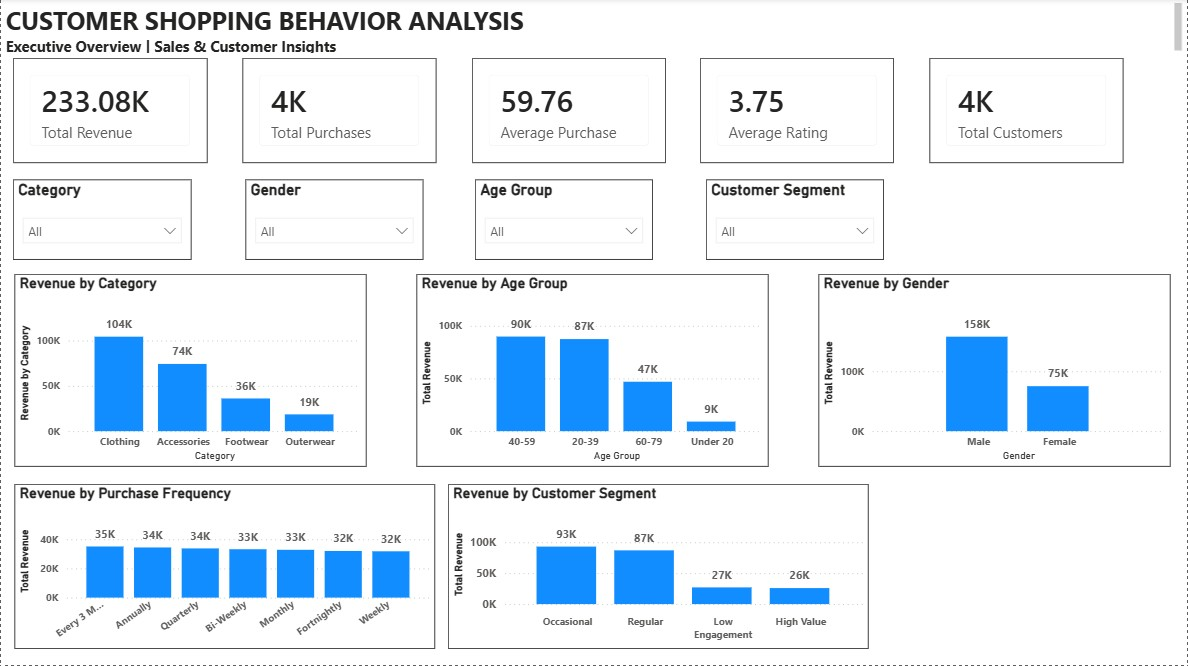

What the dashboard file says about the page in this screenshot:
{"tool":"powerbi","page":{"name":"Executive Overview","canvas":[1280,720],"ordinal":0},"visuals":[{"type":"cardVisual","fields":{"Data":["Customer Shopping.Total Purchases"]},"box":[260.9,64.3,209,113.4],"z":1000},{"type":"cardVisual","fields":{"Data":["Customer Shopping.Average Purchase"]},"box":[507.8,64.3,209,113.4],"z":2000},{"type":"cardVisual","fields":{"Data":["Customer Shopping.Average Rating"]},"box":[754.7,64.3,209,113.4],"z":3000},{"type":"cardVisual","fields":{"Data":["Customer Shopping.Total Customers"]},"box":[1001.6,64.3,209,113.4],"z":4000},{"type":"clusteredColumnChart","title":"Revenue by Category","fields":{"Category":["Customer Shopping.Category"],"Y":["Customer Shopping.Total Revenue"]},"box":[14,298,380,208],"z":5000},{"type":"clusteredColumnChart","title":"Revenue by Age Group","fields":{"Category":["Customer Shopping.Age Group"],"Y":["Customer Shopping.Total Revenue"]},"box":[448,298,380,208],"z":6000},{"type":"clusteredColumnChart","title":"Revenue by Gender","fields":{"Category":["Customer Shopping.Gender"],"Y":["Customer Shopping.Total Revenue"]},"box":[882,298,380,208],"z":7000},{"type":"clusteredColumnChart","title":"Revenue by Customer Segment","fields":{"Category":["Customer Shopping.Customer Segment"],"Y":["Customer Shopping.Total Revenue"]},"box":[482,524,454,178],"z":8000},{"type":"clusteredColumnChart","title":"Revenue by Purchase Frequency","fields":{"Category":["Customer Shopping.Frequency of Purchases"],"Y":["Customer Shopping.Total Revenue"]},"box":[14,524,454,178],"z":9000},{"type":"slicer","title":"Category","fields":{"Values":["Customer Shopping.Category"]},"box":[13.2,196.5,192.8,86.9],"z":10000},{"type":"slicer","title":"Gender","fields":{"Values":["Customer Shopping.Gender"]},"box":[263.2,196.5,192,86.9],"z":11000},{"type":"slicer","title":"Age Group","fields":{"Values":["Customer Shopping.Age Group"]},"box":[512.4,196.5,192,86.9],"z":12000},{"type":"slicer","title":"Customer Segment","fields":{"Values":["Customer Shopping.Customer Segment"]},"box":[761.6,196.5,192,86.9],"z":13000},{"type":"textbox","box":[0,0,1279.4,64.3],"z":14000},{"type":"cardVisual","fields":{"Data":["Customer Shopping.Total Revenue"]},"box":[13.2,64.3,209.8,113.4],"z":15000}]}

Visuals, with their boxes in screenshot pixels (x1, y1, x2, y2), scaled from the page's 1280x720 canvas onto the 1188x666 screenshot:
cardVisual - Customer Shopping.Total Purchases: x1=242, y1=59, x2=436, y2=164
cardVisual - Customer Shopping.Average Purchase: x1=471, y1=59, x2=665, y2=164
cardVisual - Customer Shopping.Average Rating: x1=700, y1=59, x2=894, y2=164
cardVisual - Customer Shopping.Total Customers: x1=930, y1=59, x2=1124, y2=164
"Revenue by Category" clusteredColumnChart: x1=13, y1=276, x2=366, y2=468
"Revenue by Age Group" clusteredColumnChart: x1=416, y1=276, x2=768, y2=468
"Revenue by Gender" clusteredColumnChart: x1=819, y1=276, x2=1171, y2=468
"Revenue by Customer Segment" clusteredColumnChart: x1=447, y1=485, x2=869, y2=649
"Revenue by Purchase Frequency" clusteredColumnChart: x1=13, y1=485, x2=434, y2=649
"Category" slicer: x1=12, y1=182, x2=191, y2=262
"Gender" slicer: x1=244, y1=182, x2=422, y2=262
"Age Group" slicer: x1=476, y1=182, x2=654, y2=262
"Customer Segment" slicer: x1=707, y1=182, x2=885, y2=262
textbox: x1=0, y1=0, x2=1187, y2=59
cardVisual - Customer Shopping.Total Revenue: x1=12, y1=59, x2=207, y2=164
